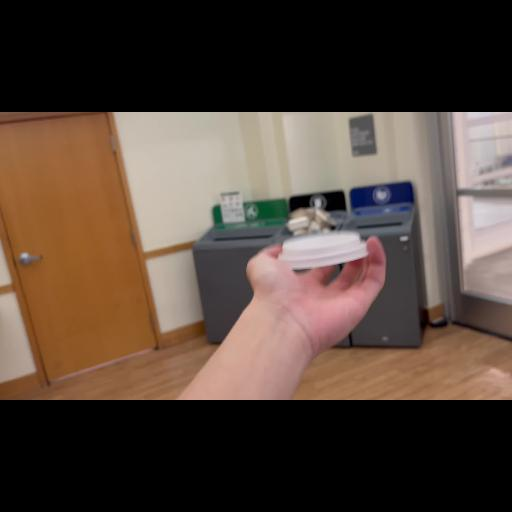lp_cup_lids: (272, 230, 370, 268)
